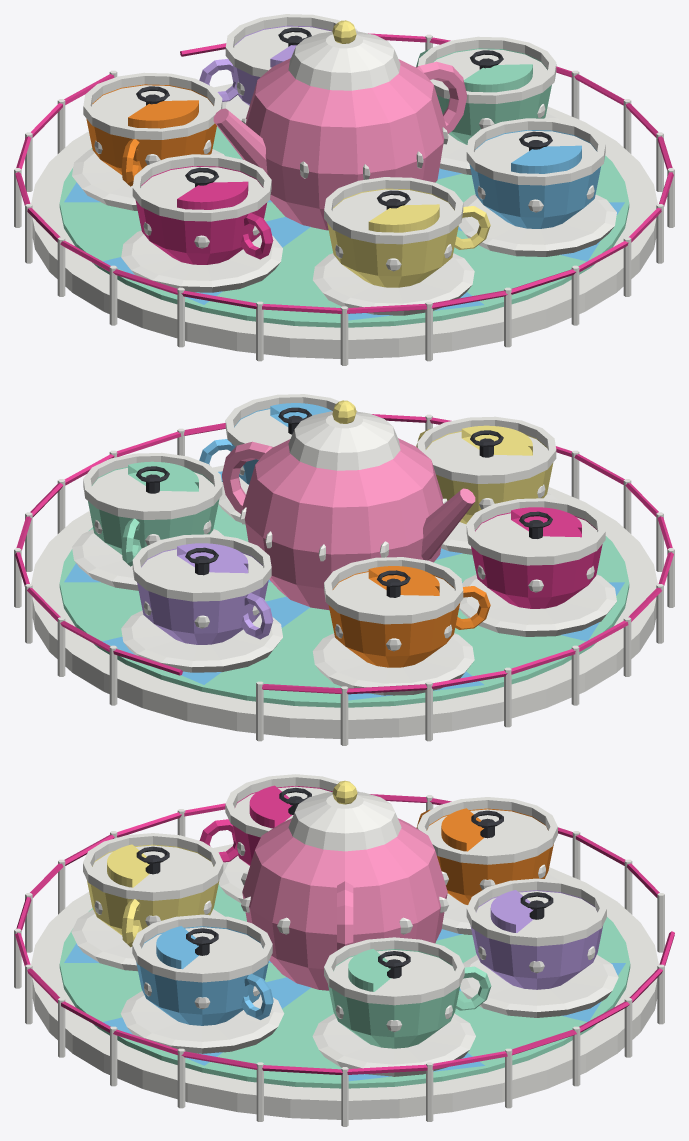
File: TeacupRide.fbx
3 renders of one model, top to bottom at view 1: azimuth 30°, elevation 25°; view 2: azimuth 150°, elevation 25°; view 3: azimuth 270°, elevation 25°, orthographic.
Visible parts, largest first — view 1: TeacupRide_White, TeacupRide_Pink, TeacupRide_Mint, TeacupRide_HotPink, TeacupRide_SkyBlue, TeacupRide_Lemon, TeacupRide_Orange, TeacupRide_Charcoal, TeacupRide_Lilac; view 2: TeacupRide_White, TeacupRide_Mint, TeacupRide_Pink, TeacupRide_HotPink, TeacupRide_Orange, TeacupRide_Lilac, TeacupRide_Lemon, TeacupRide_SkyBlue, TeacupRide_Charcoal; view 3: TeacupRide_White, TeacupRide_Mint, TeacupRide_Pink, TeacupRide_HotPink, TeacupRide_SkyBlue, TeacupRide_Lilac, TeacupRide_Lemon, TeacupRide_Orange, TeacupRide_Charcoal.
Boxes of the visible parts, x1,y1,x2,y2 form: TeacupRide_White: (14,14,674,365); TeacupRide_Pink: (213,58,466,230); TeacupRide_Mint: (59,48,629,327); TeacupRide_HotPink: (15,33,673,313); TeacupRide_SkyBlue: (64,130,624,320); TeacupRide_Lemon: (327,20,490,287); TeacupRide_Orange: (86,84,216,186); TeacupRide_Charcoal: (136,27,552,209); TeacupRide_Lilac: (199,25,332,105); TeacupRide_White: (14,394,674,745); TeacupRide_Mint: (59,461,629,707); TeacupRide_Pink: (222,438,475,610); TeacupRide_HotPink: (15,414,673,694); TeacupRide_Orange: (328,566,490,667); TeacupRide_Lilac: (137,543,273,644); TeacupRide_Lemon: (332,400,553,524); TeacupRide_SkyBlue: (64,403,624,700); TeacupRide_Charcoal: (136,407,552,597); TeacupRide_White: (14,774,664,1126); TeacupRide_Mint: (59,884,630,1088); TeacupRide_Pink: (242,818,447,990); TeacupRide_HotPink: (15,785,674,1075); TeacupRide_SkyBlue: (64,926,625,1081); TeacupRide_Lilac: (470,890,602,989); TeacupRide_Lemon: (87,780,357,947); TeacupRide_Orange: (416,808,553,904); TeacupRide_Charcoal: (136,787,553,978).
Bounding box in the file's own units: 31.51 × 10.8 × 31.51.
